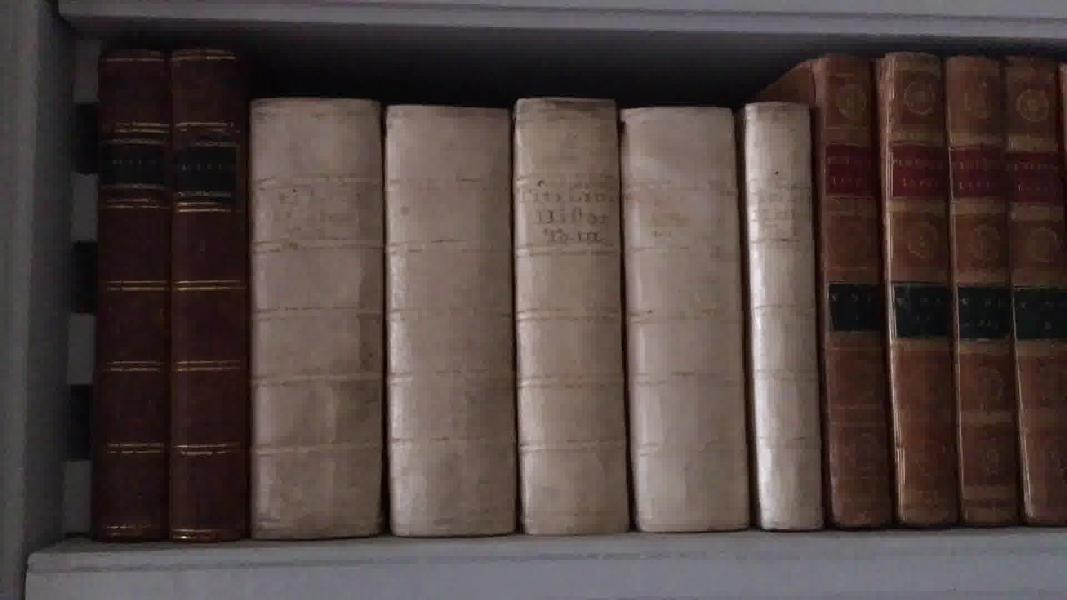Kk4-1_2: (82, 32, 266, 557)
Kk4-3_7: (232, 75, 835, 539)
Kk4-8_13: (805, 47, 1067, 541)
